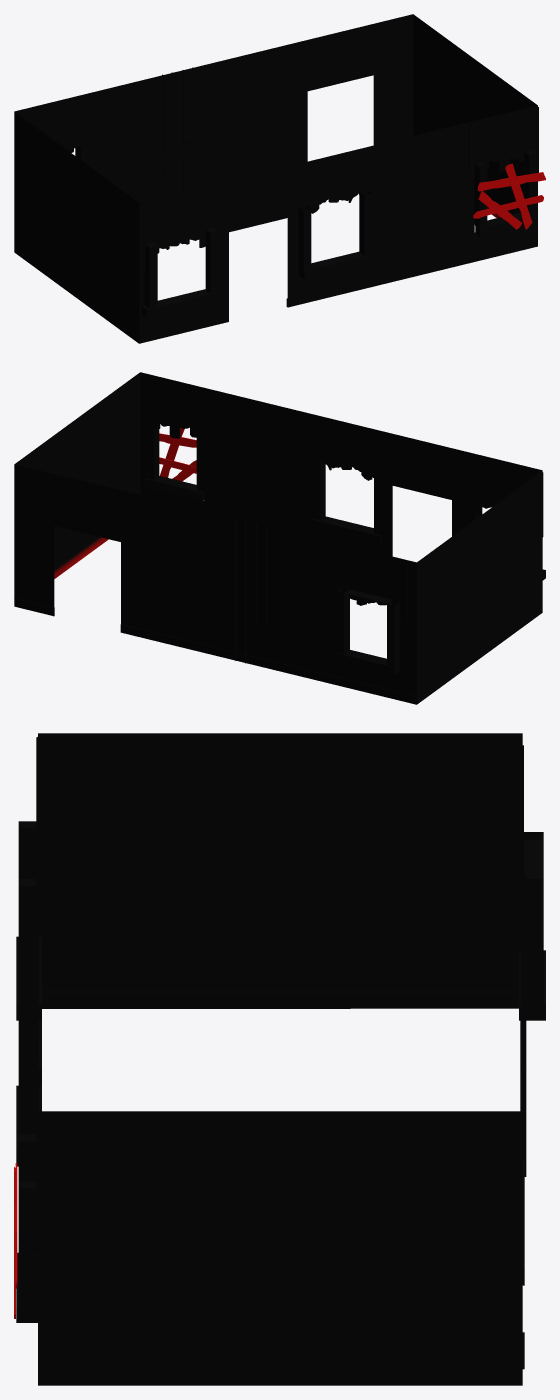
Rendered from SM_MI_OfficeWall01.fbx.
3 renders of one model, top to bottom at view 1: azimuth 30°, elevation 25°; view 2: azimuth 150°, elevation 25°; view 3: azimuth 270°, elevation 25°, orthographic. The views are drawn at different scales.
Parts seen in each view (by area): view 1: SM_ST_Office01.mo; view 2: SM_ST_Office01.mo; view 3: SM_ST_Office01.mo.
Part boxes in pixels (x1,y1,x2,y2): SM_ST_Office01.mo: (14,14,545,343); SM_ST_Office01.mo: (14,372,545,704); SM_ST_Office01.mo: (14,733,545,1385).
Bounding box in the file's own units: 1157 × 684 × 389.
